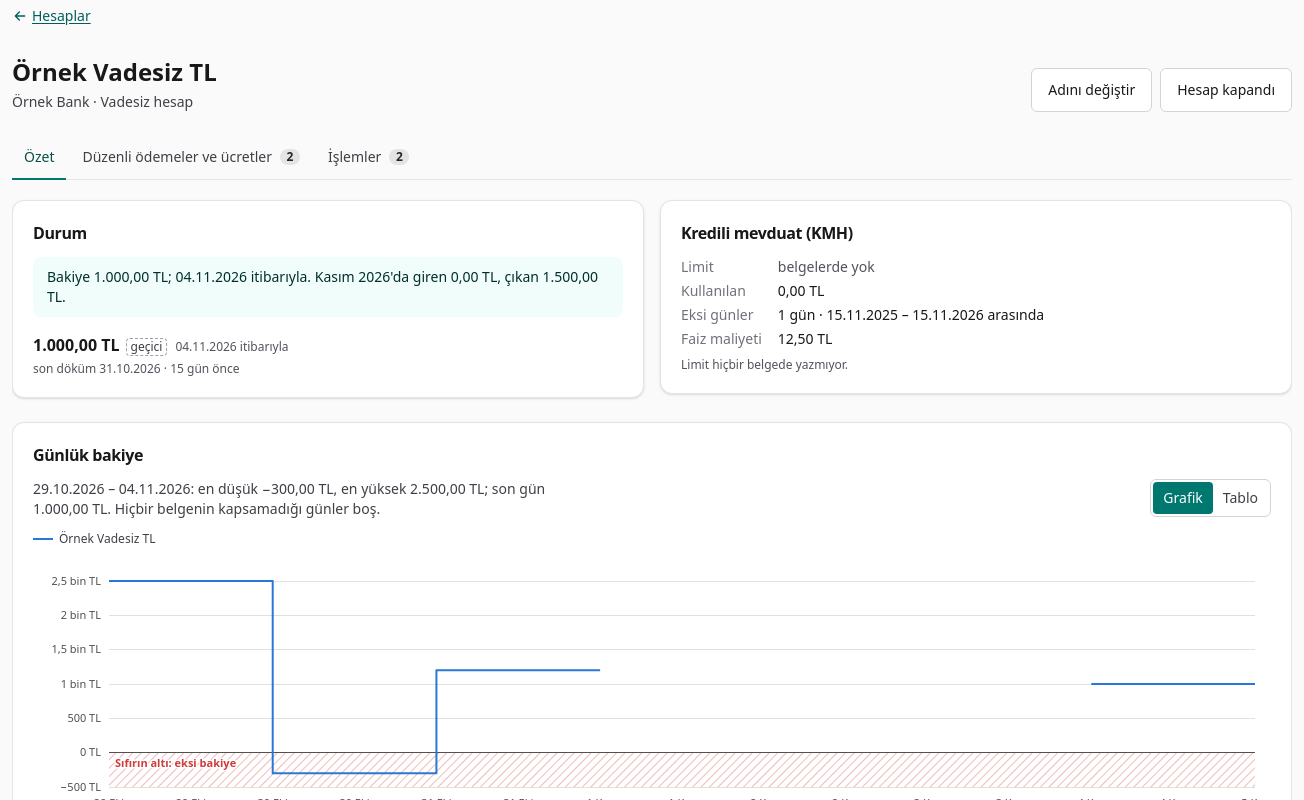
Test: AccountPage: a TL account › shows the last 12 months by the newest complete one, the interest and fees, and the regular payments
Click the tab "Düzenli ödemeler ve ücretler 2" at (191, 158), box [70,136,312,180]
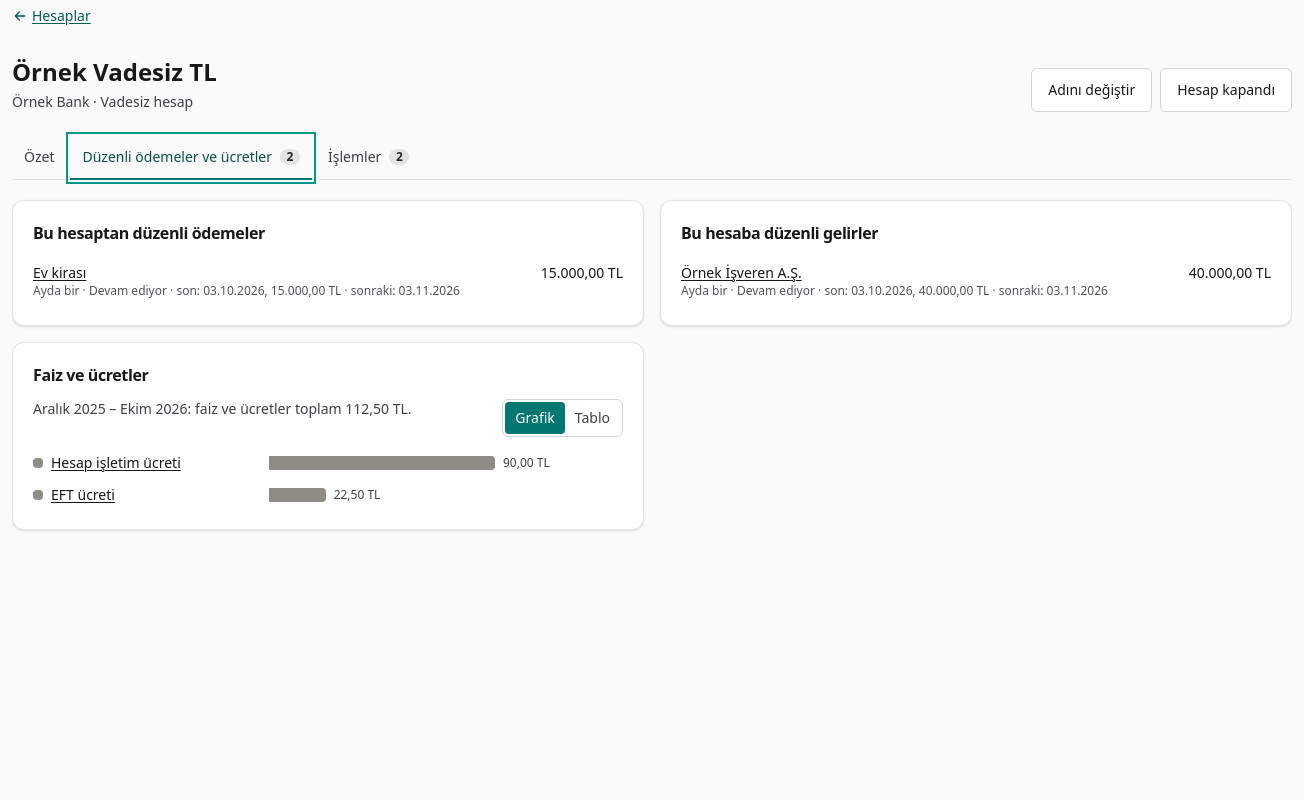
Check: the text "Aralık 2025 – Ekim 2026: faiz ve ücretler toplam 112,50 TL." is shown, box [33,399,412,418]
